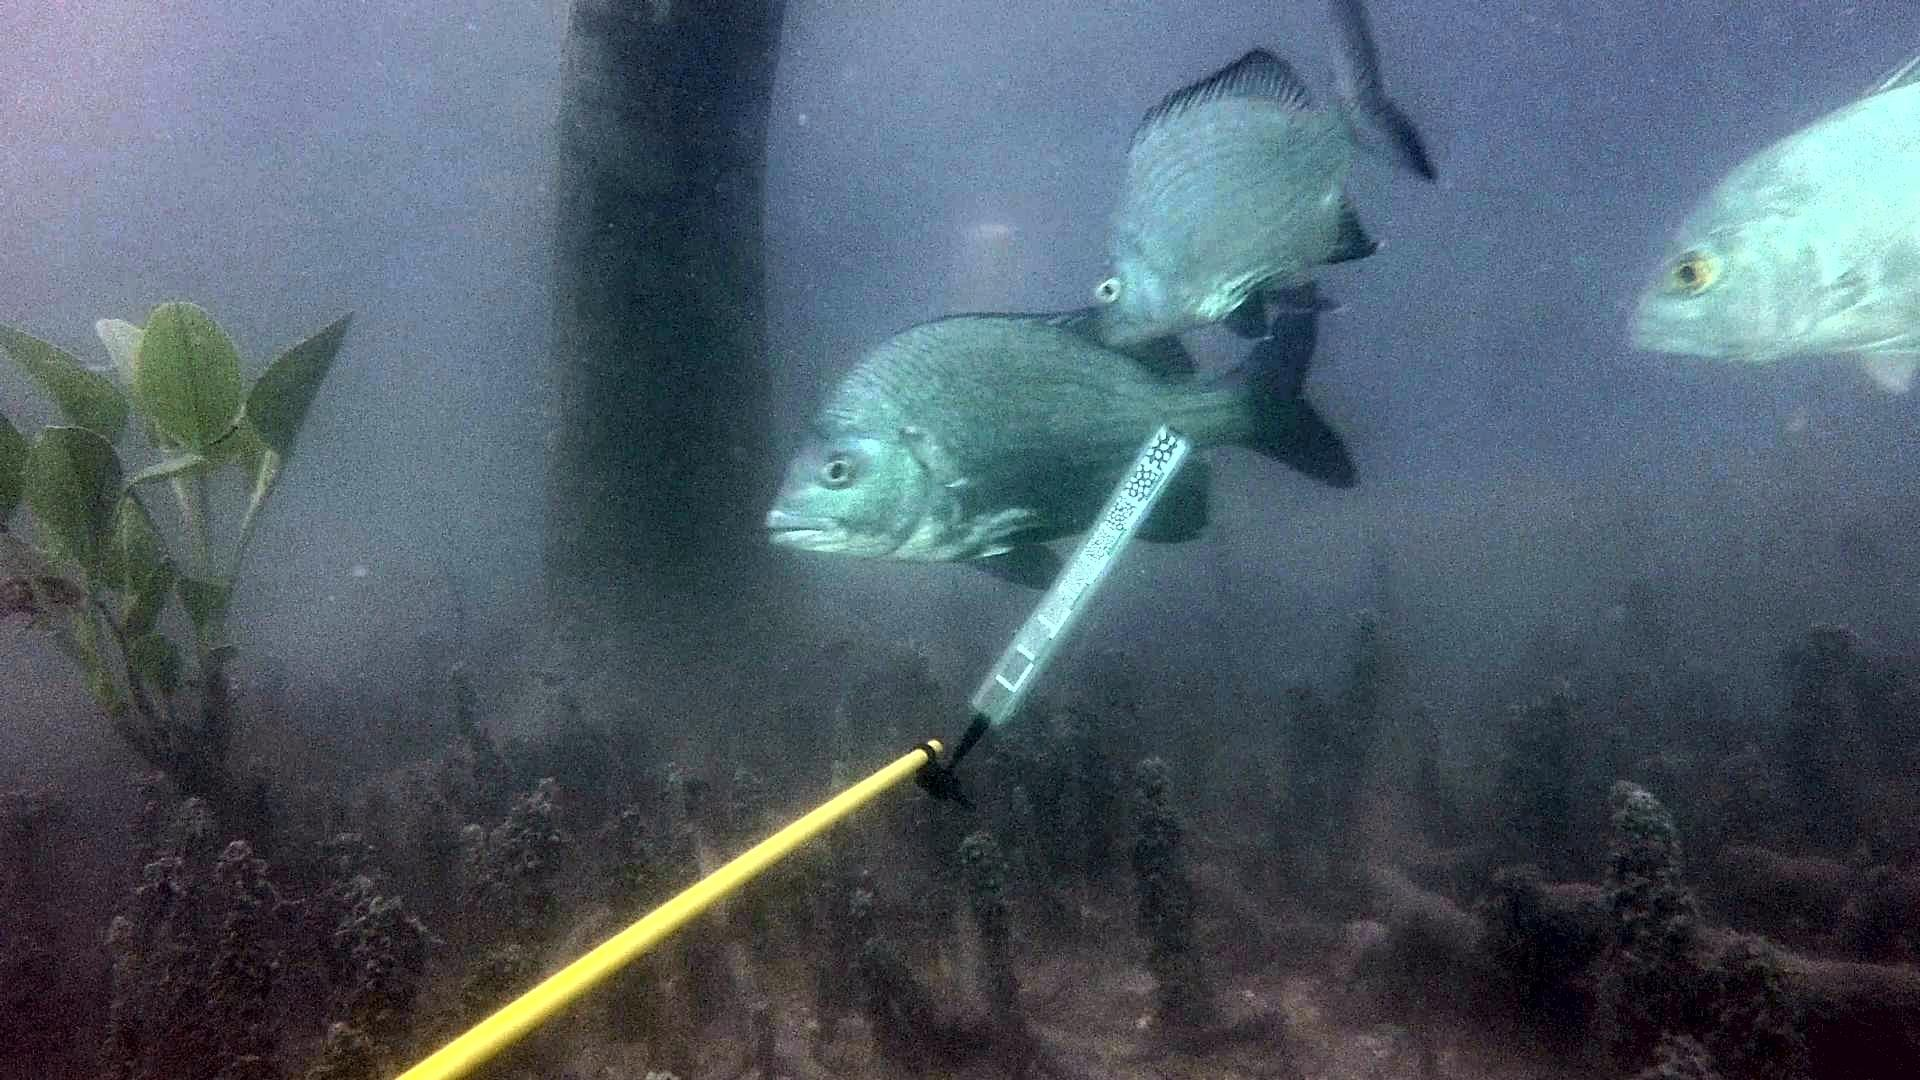acanthopagrus palmaris: (753, 278, 1370, 599), (1085, 0, 1460, 359)
caranx: (1610, 36, 1920, 413)
